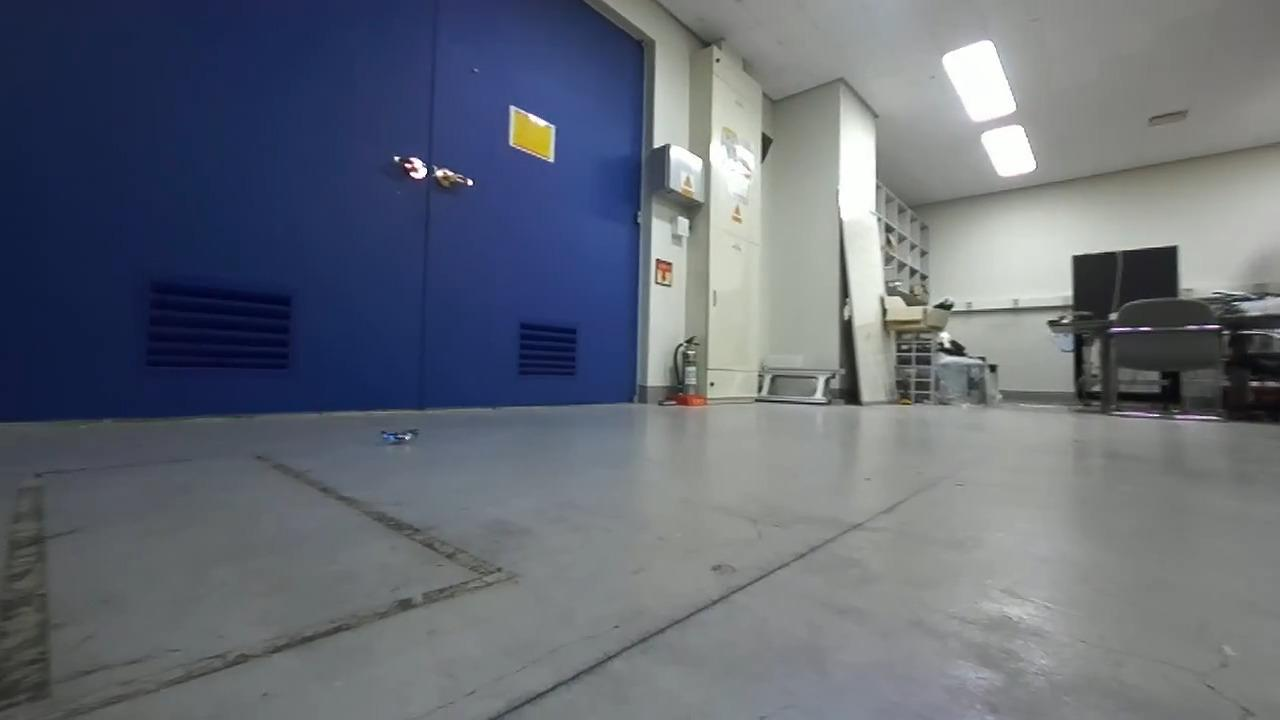crazyflie: (370, 421, 425, 451)
